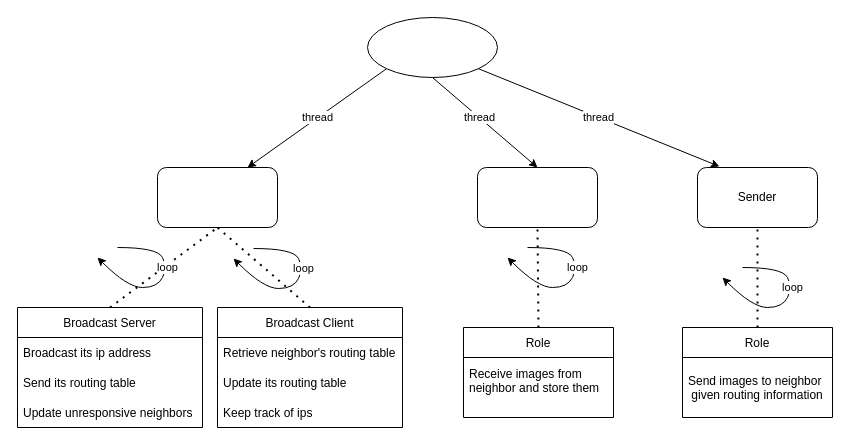
Image size: 850x445. Some labels were removed from this diagram. Each missing label, with the centre of its shape:
Discovery & Routing: the point at 217,197
Main Program: the point at 432,47
Receiver: the point at 537,197
